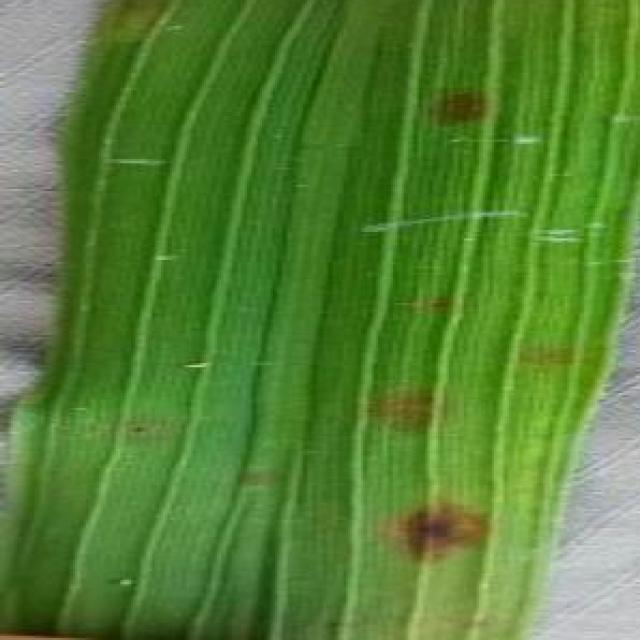Brown_Spot: (372, 487, 498, 595), (361, 376, 462, 447), (410, 80, 498, 152), (108, 412, 170, 450), (416, 288, 466, 322), (90, 572, 122, 602), (114, 573, 140, 595)
